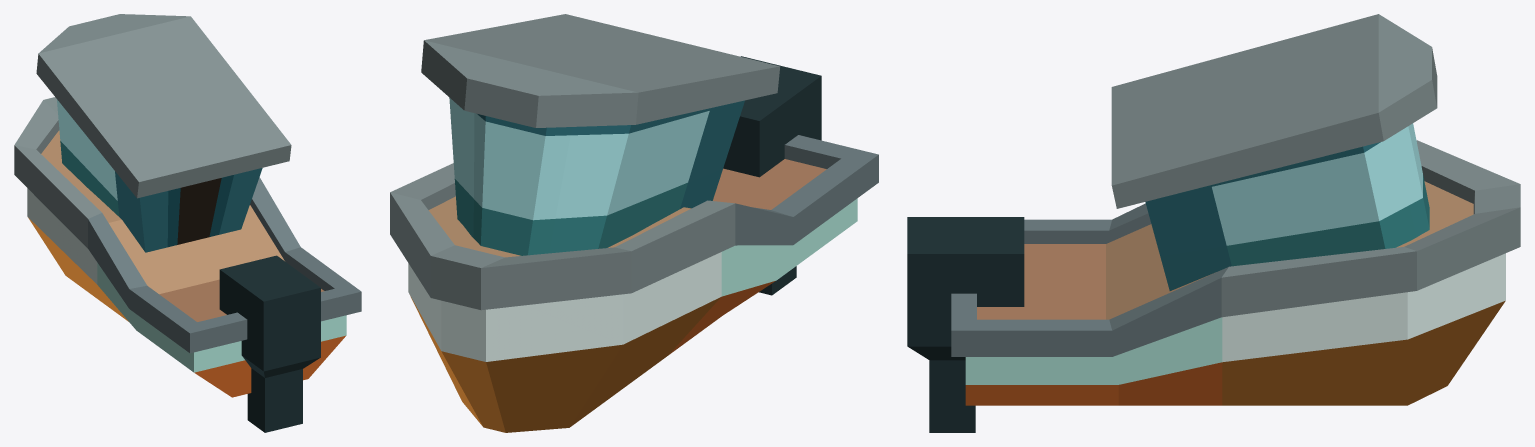
File: simpleboat.fbx
3 renders of one model, left to right at view 1: azimuth 30°, elevation 25°; view 2: azimuth 150°, elevation 25°; view 3: azimuth 270°, elevation 25°, orthographic. The views are drawn at different scales.
Parts seen in each view (by area): view 1: mesh_2, mesh_1, mesh_4, mesh_3, mesh; view 2: mesh, mesh_1, mesh_3, mesh_2, mesh_4; view 3: mesh_1, mesh, mesh_2, mesh_3, mesh_4.
Part boxes in pixels (<box>): mesh_2: <box>36,14,291,198</box>; mesh_1: <box>14,97,361,353</box>; mesh_4: <box>219,255,320,432</box>; mesh_3: <box>57,99,262,252</box>; mesh: <box>27,188,346,397</box>; mesh: <box>408,198,857,432</box>; mesh_1: <box>390,135,878,310</box>; mesh_3: <box>449,97,744,255</box>; mesh_2: <box>421,14,780,127</box>; mesh_4: <box>723,56,821,295</box>; mesh_1: <box>951,140,1520,356</box>; mesh: <box>965,253,1505,405</box>; mesh_2: <box>1111,14,1437,208</box>; mesh_3: <box>1145,123,1429,290</box>; mesh_4: <box>907,217,1024,432</box>.
Bounding box in the file's own units: 112 × 169 × 262.
1 material, 1 textured.
